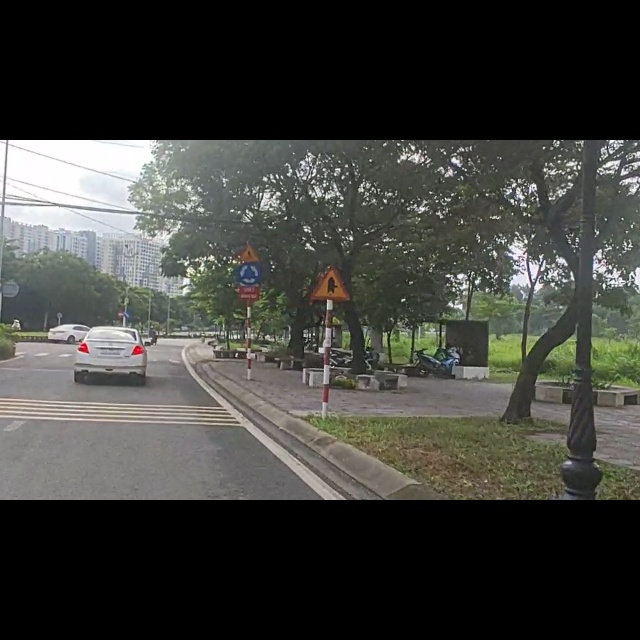bien_hieu_lenh: (309, 223, 351, 289), (238, 219, 261, 258), (239, 184, 260, 218), (124, 305, 131, 318), (117, 303, 124, 315)
